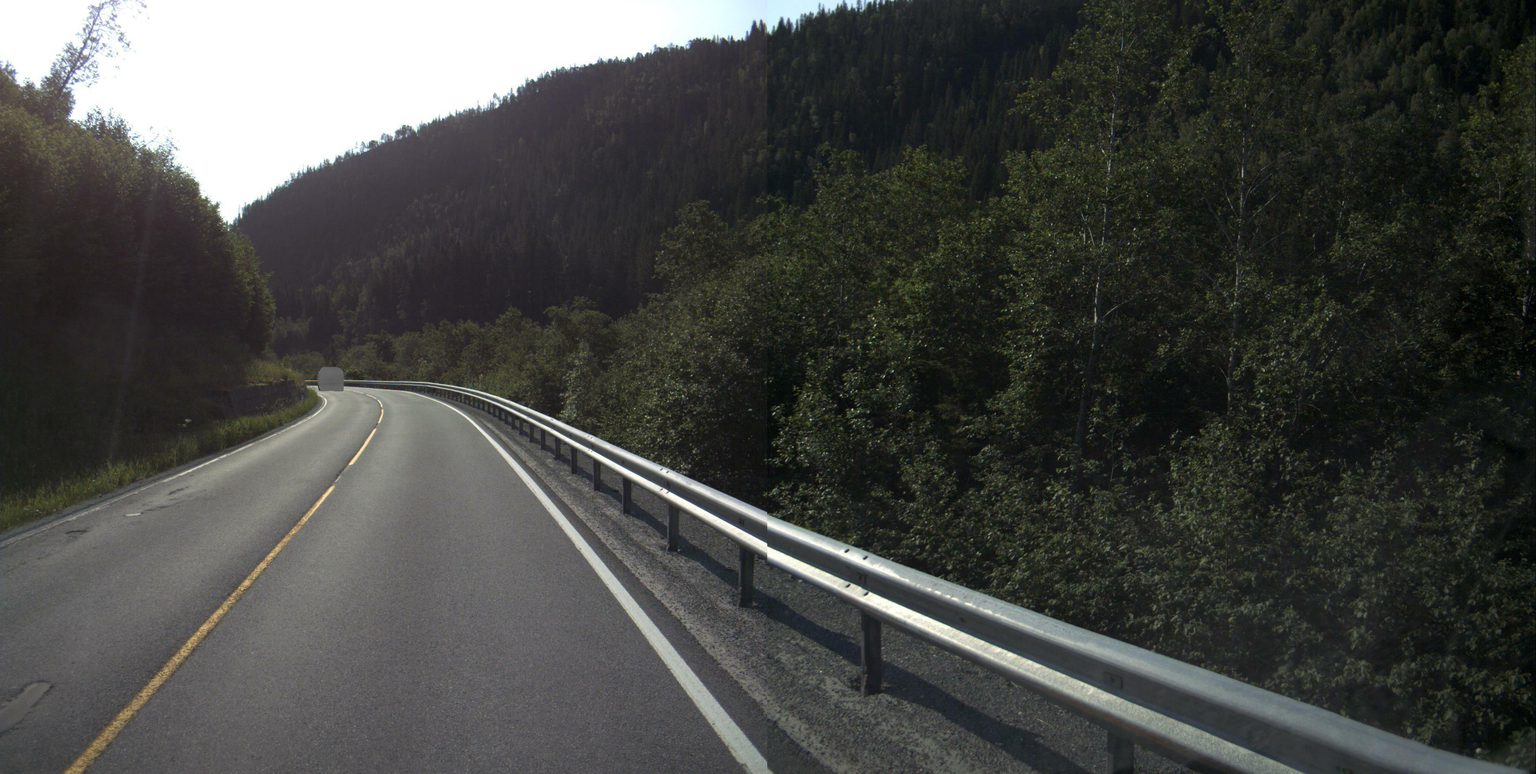pothole: (2, 680, 51, 738), (120, 483, 183, 521), (62, 526, 84, 537)
